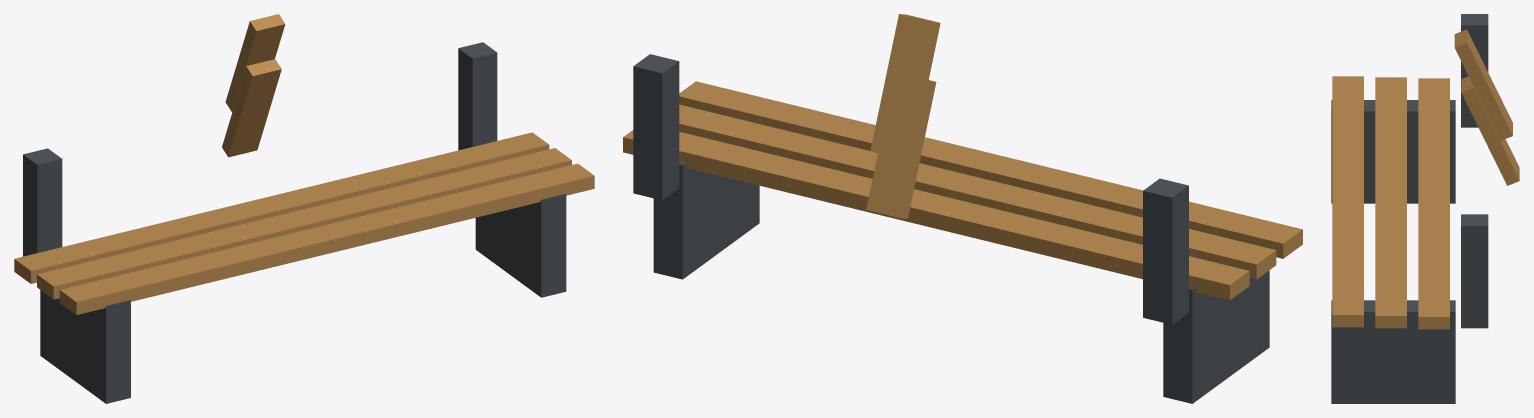
The model's file is bench.glb.
3 views of the same model, side by side, from view 1: azimuth 30°, elevation 25°; view 2: azimuth 150°, elevation 25°; view 3: azimuth 270°, elevation 25° (orthographic). The views are drawn at different scales.
Visible parts, largest first — view 1: bench; view 2: bench; view 3: bench.
Boxes of the visible parts, x1,y1,x2,y2 form: bench: (14,14,594,403); bench: (623,14,1302,403); bench: (1331,14,1519,403).
Size of the model in its own units: 2.5 by 1.28 by 0.8343.
